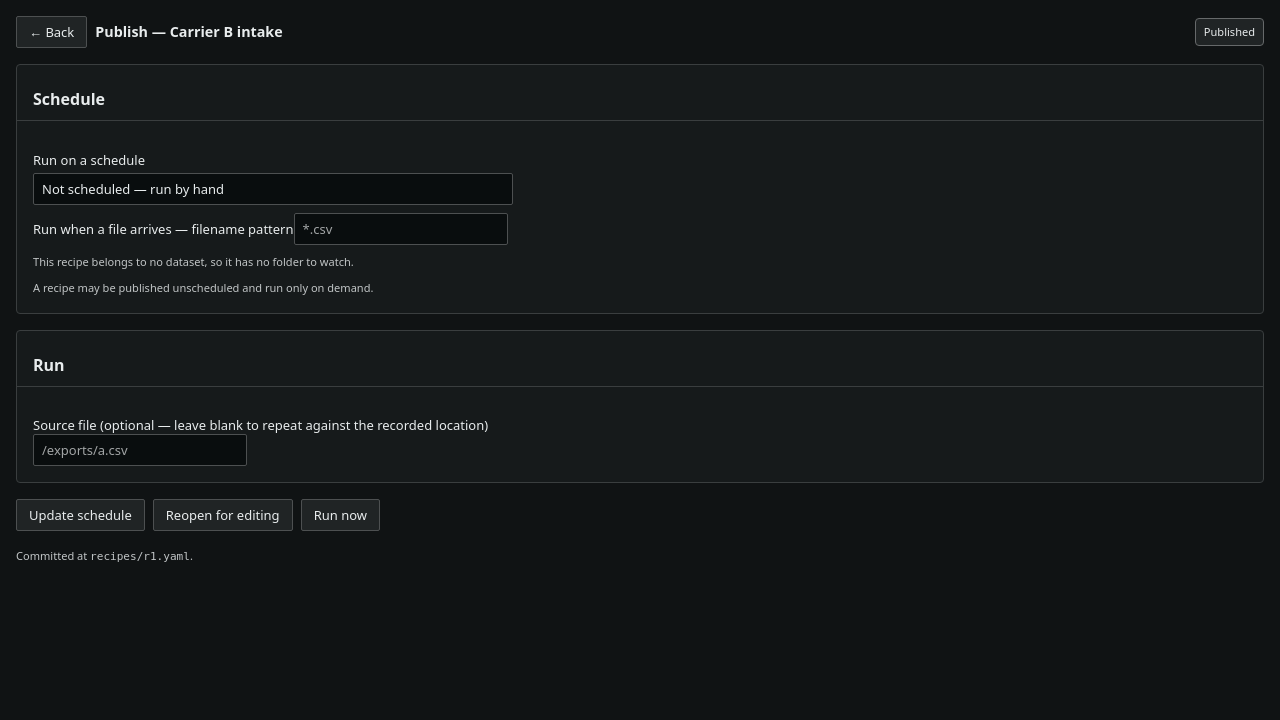
Test: Publish: a run into a case that already holds its rows › says how many rows the case already held and skipped, beside the created counts
Click the button "Run now". click: point(340, 515)
box: x1=301 y1=499 x2=380 y2=531
(page scrolled)
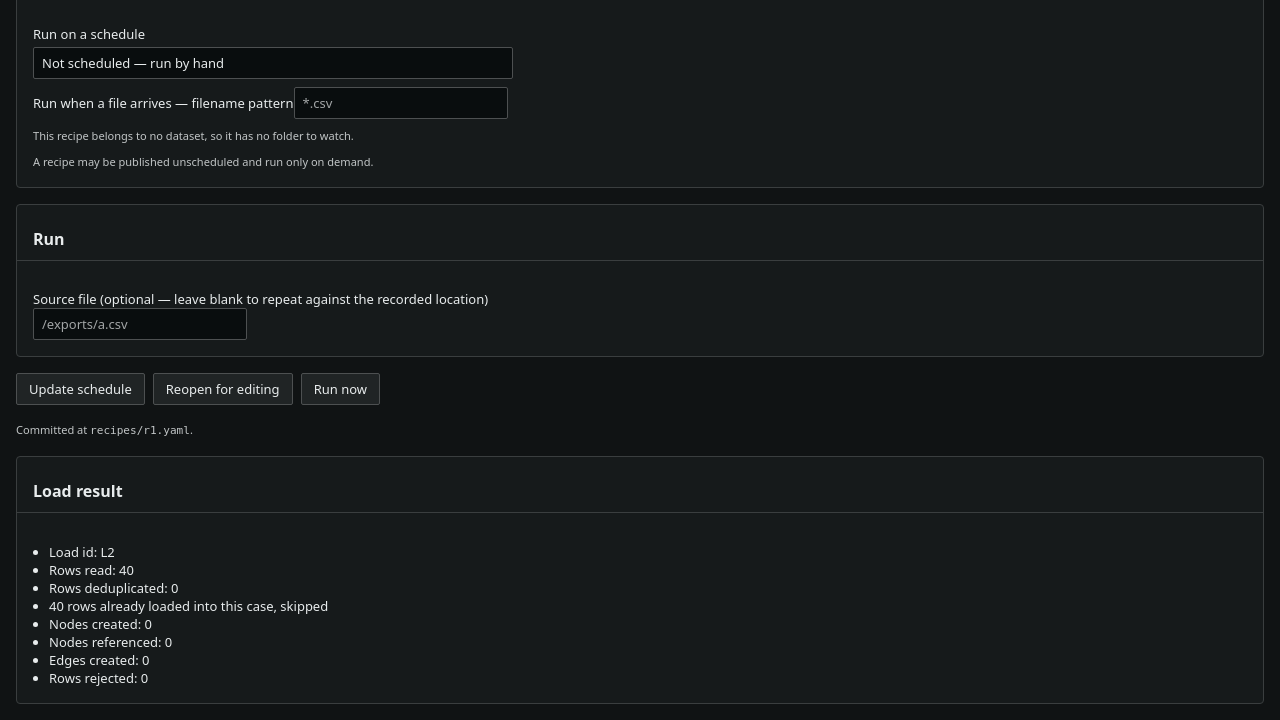
Expected: the list item "40 rows already loaded into this case, skipped" is shown, x1=49 y1=597 x2=328 y2=615
Expected: the list item "Nodes created: 0" is shown, x1=49 y1=615 x2=152 y2=633
